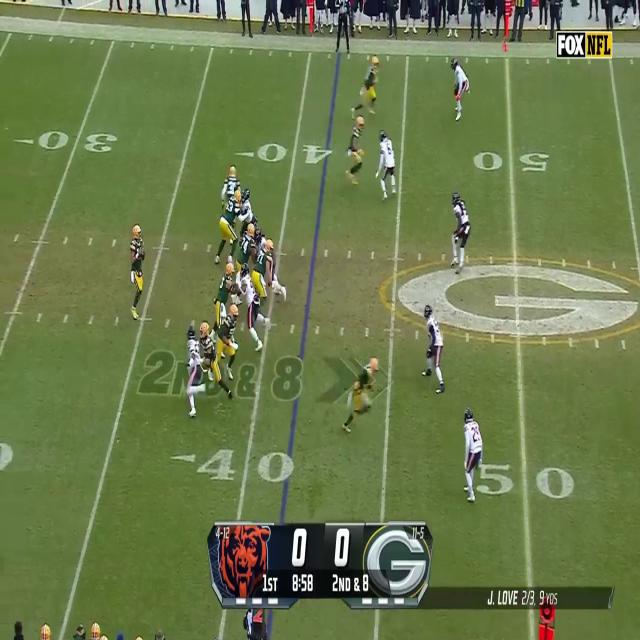Player: (341, 357, 377, 432), (215, 191, 243, 263), (240, 262, 262, 348), (463, 408, 483, 502), (424, 305, 444, 395), (451, 192, 470, 274), (356, 56, 380, 120), (346, 114, 366, 188), (377, 129, 398, 199), (186, 327, 202, 416), (199, 321, 221, 384), (218, 305, 240, 367), (130, 224, 144, 320), (451, 57, 470, 123), (256, 239, 274, 297), (212, 263, 234, 307), (222, 166, 242, 207), (238, 186, 257, 227), (242, 224, 256, 266), (254, 225, 266, 248)
Referee: (333, 0, 352, 55)
